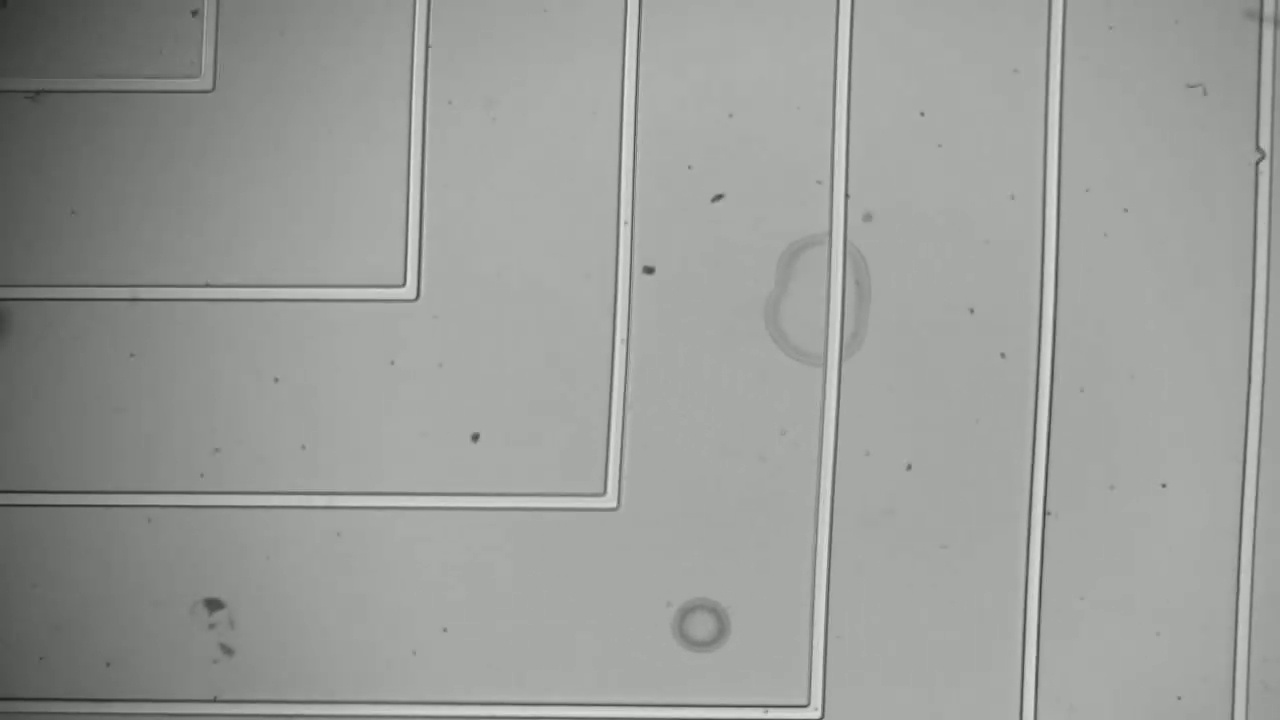edge_bite: (1247, 139, 1275, 170)
